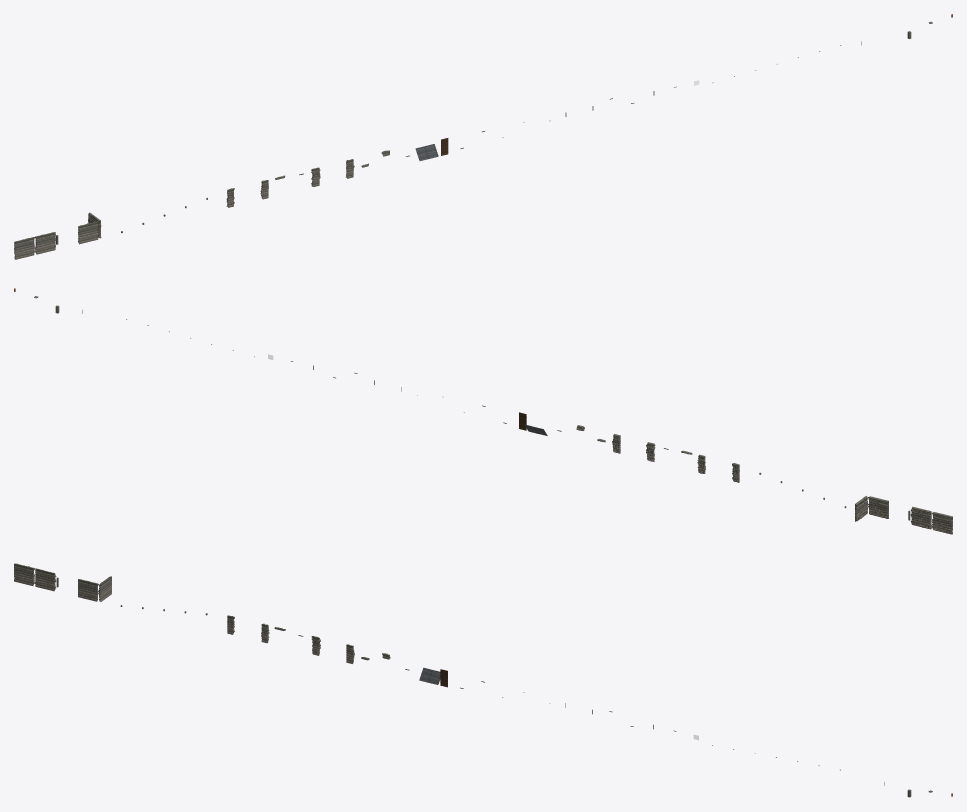
The model's file is tls_env_101_kit_cottage_v2.glb.
The picture shows the model from 3 angles, top to bottom: view 1: azimuth 30°, elevation 25°; view 2: azimuth 150°, elevation 25°; view 3: azimuth 330°, elevation 25°; orthographic projection.
Bounding box in the file's own units: 119 × 2.24 × 2.85.
6 materials, 4 textured.
